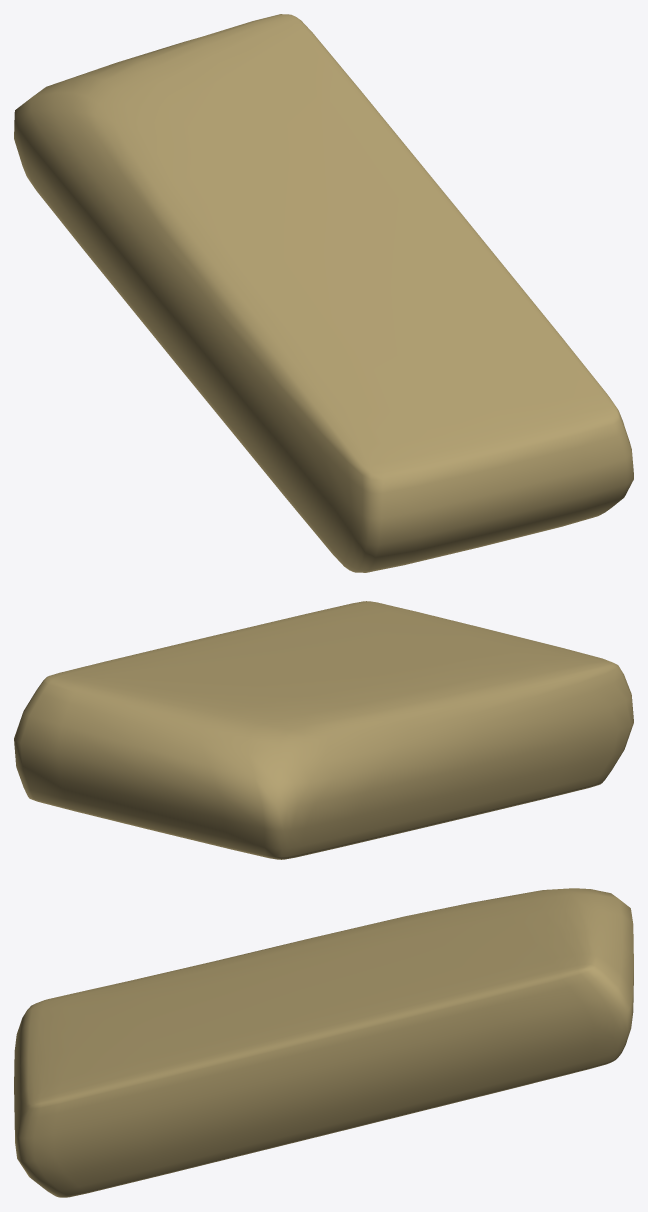
File: Pillow.fbx
3 renders of one model, top to bottom at view 1: azimuth 30°, elevation 25°; view 2: azimuth 150°, elevation 25°; view 3: azimuth 270°, elevation 25°, orthographic. The views are drawn at different scales.
Visible parts, largest first — view 1: Cube.004; view 2: Cube.004; view 3: Cube.004.
Part boxes in pixels (x1=…): Cube.004: x1=14, y1=14, x2=633, y2=572; Cube.004: x1=14, y1=601, x2=633, y2=859; Cube.004: x1=14, y1=888, x2=633, y2=1197.
Size of the model in its own units: 8.39 by 7.65 by 18.55.
